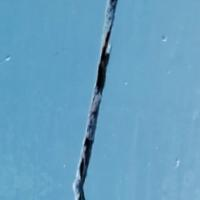crack: (73, 3, 129, 199)
